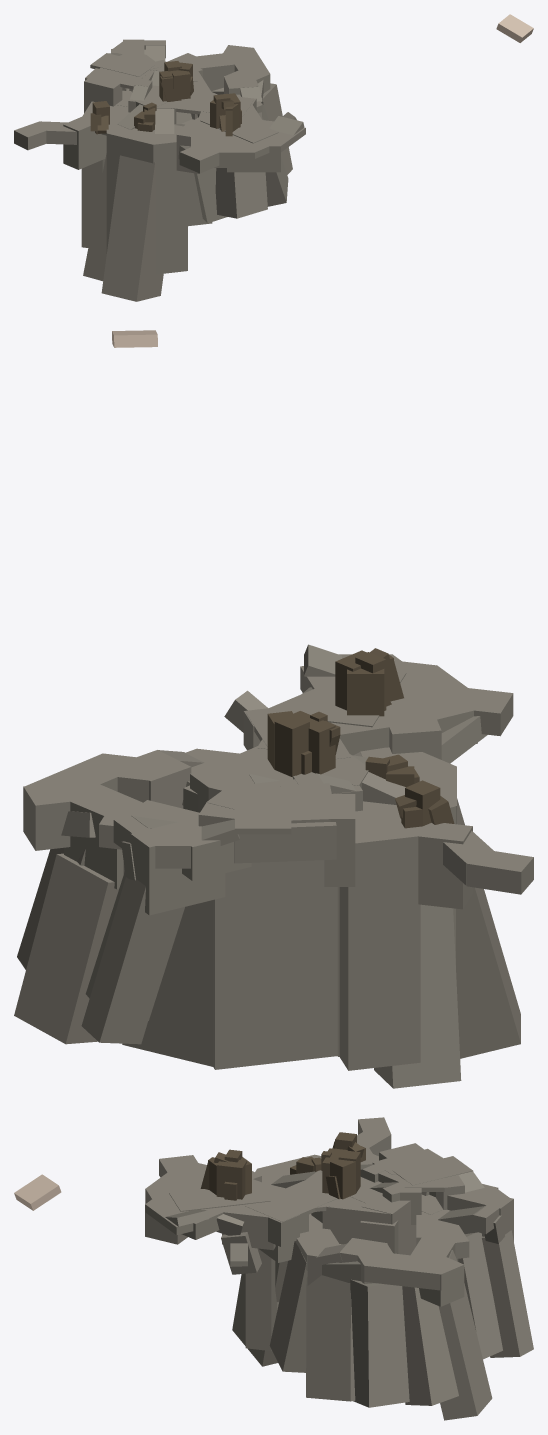
The model's file is p_SnakePass.fbx.
3 renders of one model, top to bottom at view 1: azimuth 30°, elevation 25°; view 2: azimuth 150°, elevation 25°; view 3: azimuth 270°, elevation 25°, orthographic. The views are drawn at different scales.
Visible parts, largest first — view 1: Wall_Smell__142_, Wall_Smell__43_, Wall_Smell__137_, Wall_Smell__42_, Wall_Smell__61_, Wall_Smell__143_, Wall_Smell__64_, Wall_Smell__72_, Wall_Smell__30_, Wall_Smell__63_, Wall_Smell__136_, Wall_Smell__73_ (+20 smaller); view 2: Wall_Smell__45_, Wall_Smell__64_, Wall_Smell__134_, Wall_Smell__138_, Wall_Smell__29_, Wall_Smell__142_, Wall_Smell__143_, Wall_Smell__36_, Wall_Smell__61_, Wall_Smell__30_, Wall_Smell__79_, Wall_Smell__44_ (+28 smaller); view 3: Wall_Smell__135_, Wall_Smell__140_, Wall_Smell__141_, Wall_Smell__134_, Wall_Smell__138_, Wall_Smell__137_, Wall_Smell__43_, Wall_Smell__139_, Wall_Smell__34_, Wall_Smell__35_, Wall_Smell__39_, Wall_Smell__40_ (+42 smaller).
Boxes of the visible parts, left/top/right/bottom form: Wall_Smell__142_: left=101, top=155, right=163, bottom=301; Wall_Smell__43_: left=148, top=132, right=187, bottom=274; Wall_Smell__137_: left=215, top=112, right=267, bottom=218; Wall_Smell__42_: left=106, top=125, right=162, bottom=253; Wall_Smell__61_: left=63, top=111, right=117, bottom=169; Wall_Smell__143_: left=83, top=153, right=106, bottom=281; Wall_Smell__64_: left=81, top=101, right=105, bottom=247; Wall_Smell__72_: left=227, top=134, right=280, bottom=172; Wall_Smell__30_: left=186, top=53, right=234, bottom=91; Wall_Smell__63_: left=84, top=75, right=122, bottom=112; Wall_Smell__136_: left=194, top=168, right=226, bottom=223; Wall_Smell__73_: left=179, top=144, right=219, bottom=173; Wall_Smell__45_: left=213, top=860, right=337, bottom=1069; Wall_Smell__64_: left=339, top=822, right=420, bottom=1070; Wall_Smell__134_: left=14, top=853, right=119, bottom=1044; Wall_Smell__138_: left=81, top=877, right=181, bottom=1044; Wall_Smell__29_: left=122, top=800, right=212, bottom=1066; Wall_Smell__142_: left=457, top=798, right=520, bottom=1058; Wall_Smell__143_: left=374, top=904, right=461, bottom=1088; Wall_Smell__36_: left=130, top=817, right=225, bottom=915; Wall_Smell__61_: left=387, top=816, right=472, bottom=909; Wall_Smell__30_: left=64, top=784, right=142, bottom=889; Wall_Smell__79_: left=234, top=822, right=336, bottom=863; Wall_Smell__44_: left=235, top=787, right=291, bottom=834; Wall_Smell__135_: left=350, top=1279, right=409, bottom=1407; Wall_Smell__140_: left=306, top=1275, right=355, bottom=1401; Wall_Smell__141_: left=402, top=1286, right=458, bottom=1405; Wall_Smell__134_: left=438, top=1283, right=492, bottom=1420; Wall_Smell__138_: left=482, top=1230, right=533, bottom=1357; Wall_Smell__137_: left=269, top=1241, right=307, bottom=1372; Wall_Smell__43_: left=245, top=1168, right=282, bottom=1351; Wall_Smell__139_: left=458, top=1232, right=502, bottom=1359; Wall_Smell__34_: left=364, top=1253, right=447, bottom=1290; Wall_Smell__35_: left=245, top=1178, right=337, bottom=1221; Wall_Smell__39_: left=322, top=1196, right=391, bottom=1244; Wall_Smell__40_: left=419, top=1256, right=464, bottom=1306.
Size of the model in its own units: 6070 by 4250 by 5838.
